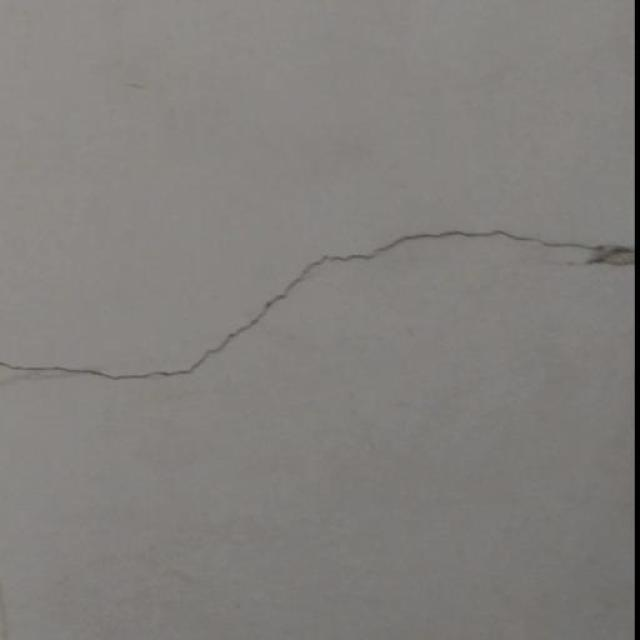minor_crack: (0, 207, 638, 404)
